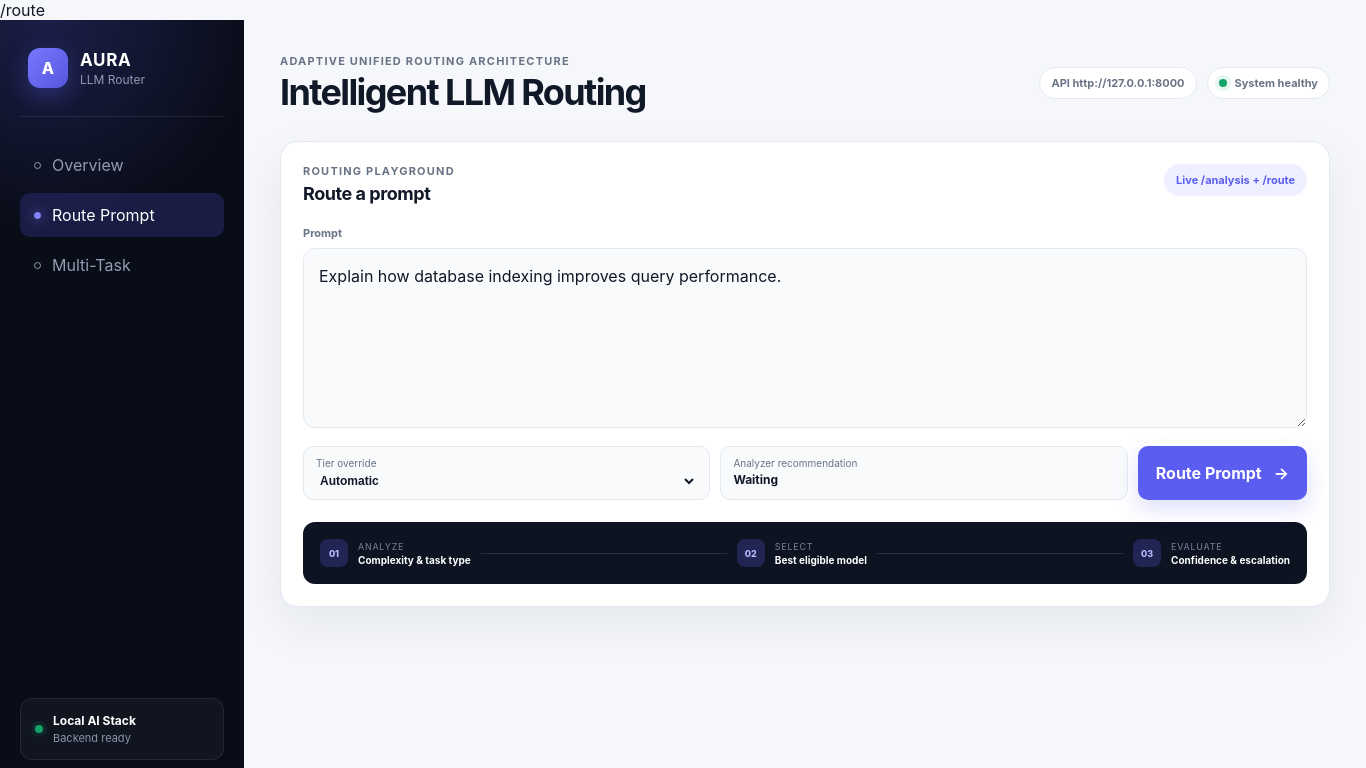
Test: AURA routed dashboard › preserves Route Prompt result across navigation
This screenshot has width=1366, height=768.
Expected: the text "System healthy" is shown, [1206,67,1330,99]
Replace the text in the text box labelled "Prompt" with "Remember this route prompt" at (805, 338), box [303,248,1307,428]
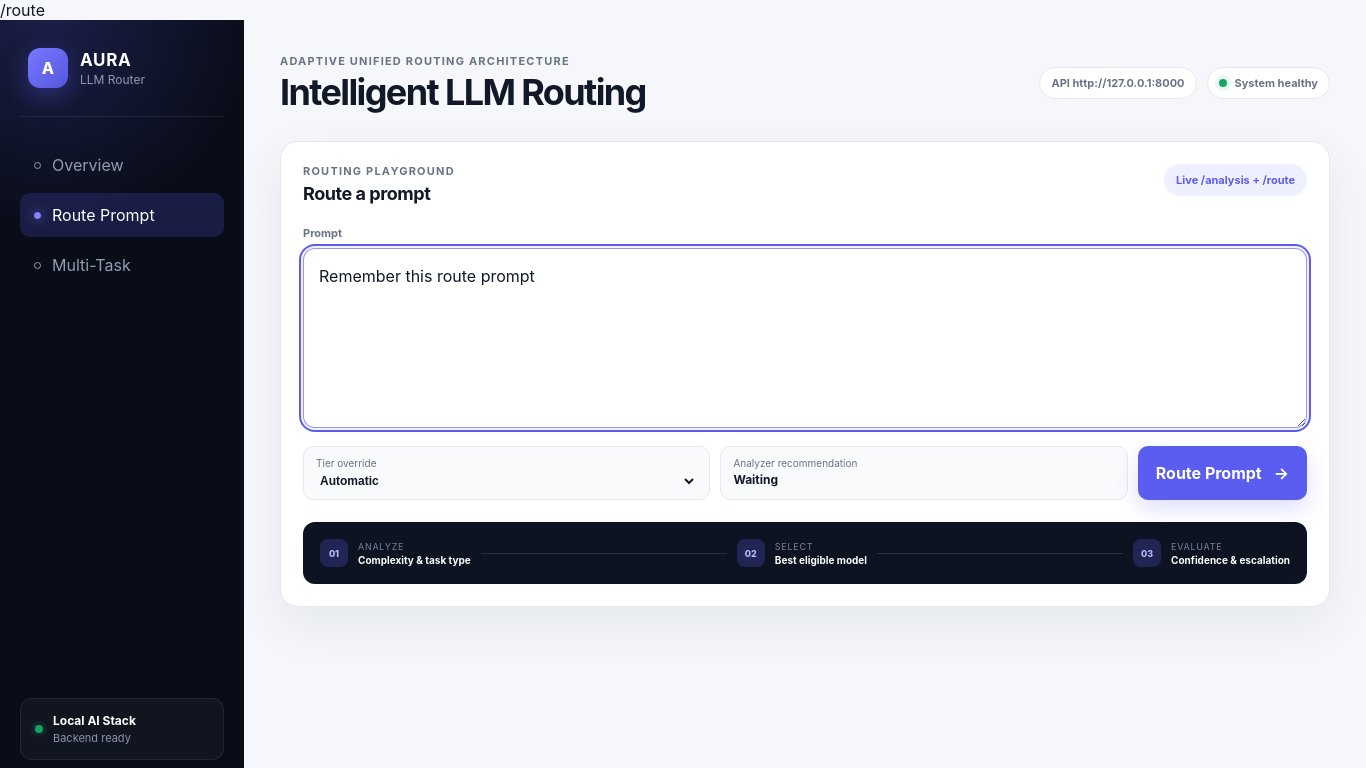
Click the button "Route Prompt →".
click(1222, 473)  # box [1138,446,1307,500]
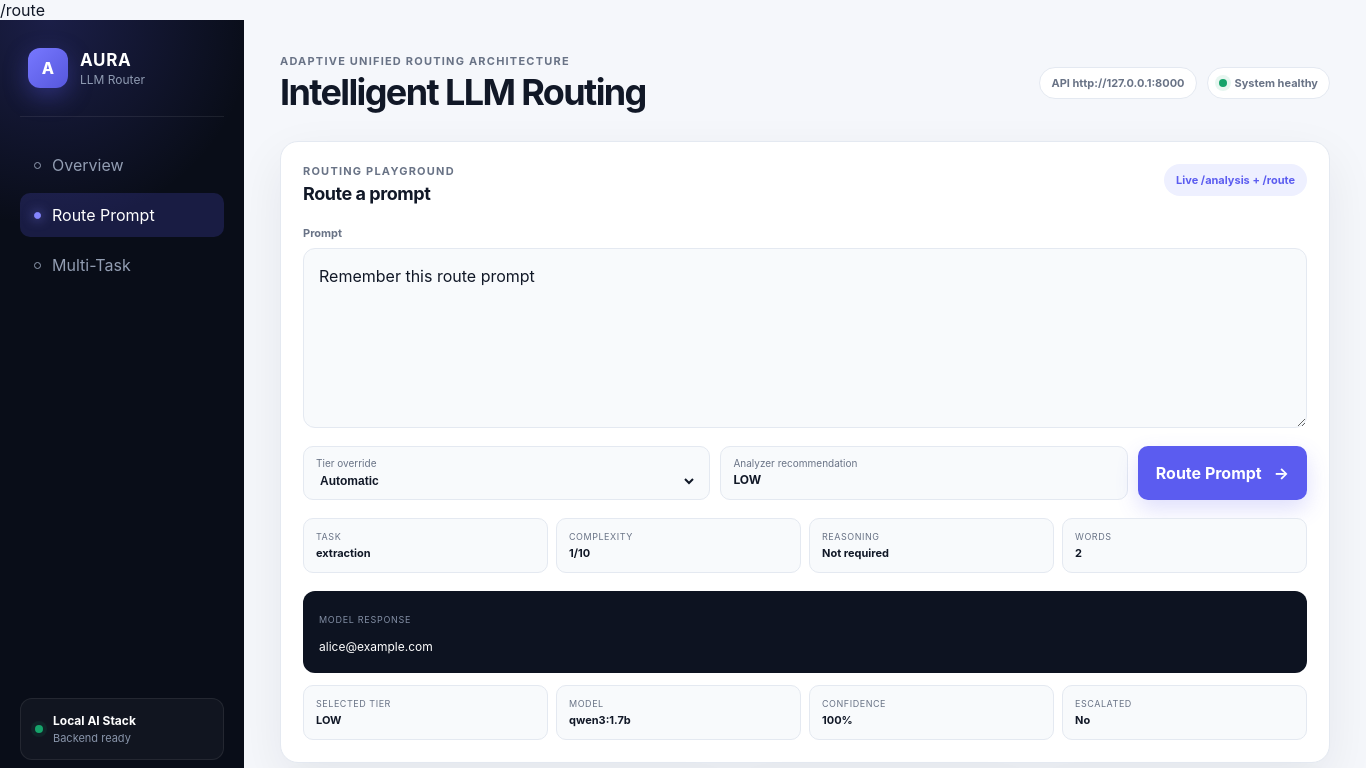
Expected: the text "alice@example.com" is shown, [319,639,433,654]
Click the link "Multi-Task".
click(82, 265)  # box [34,255,131,275]
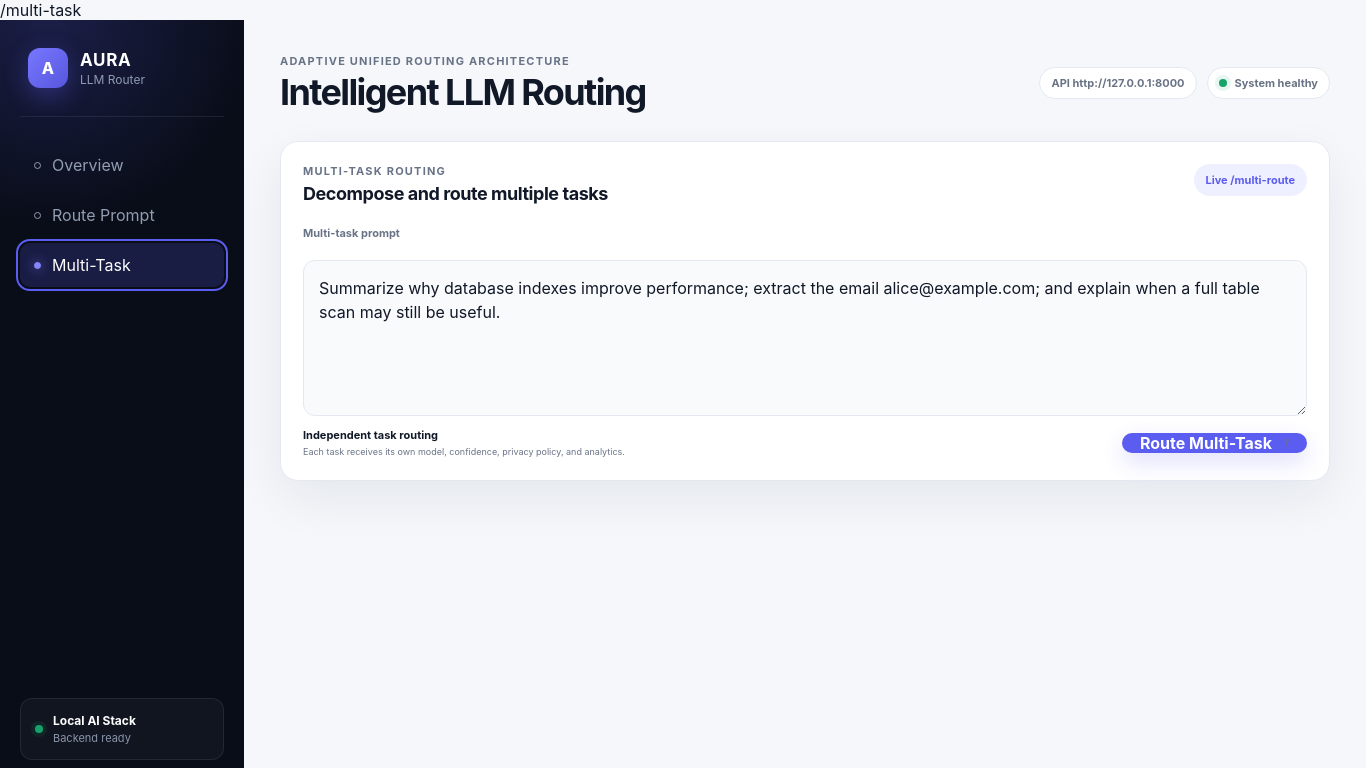
Click the link "Route Prompt".
click(94, 215)  # box [34,205,155,225]
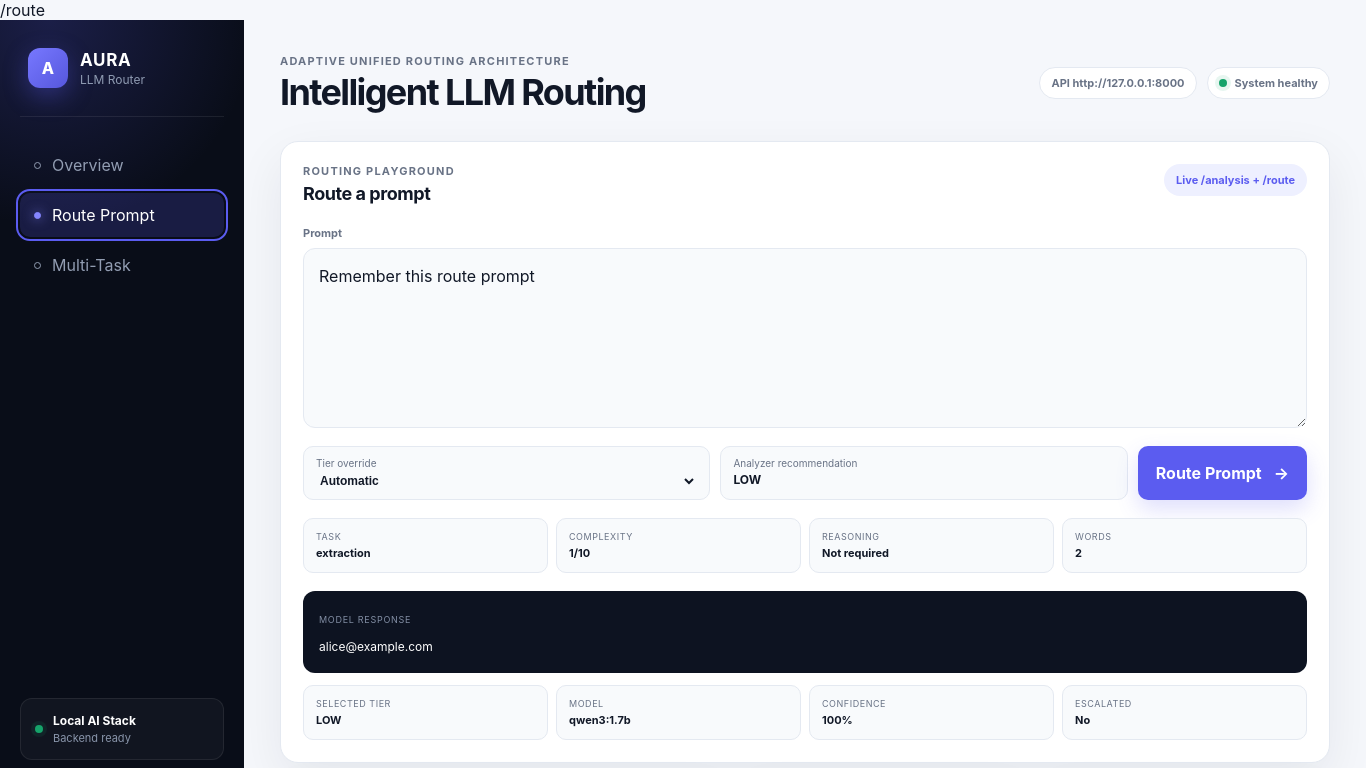
Expected: the text box labelled "Prompt" holds "Remember this route prompt", [303,248,1307,428]
Expected: the text "alice@example.com" is shown, [319,639,433,654]
